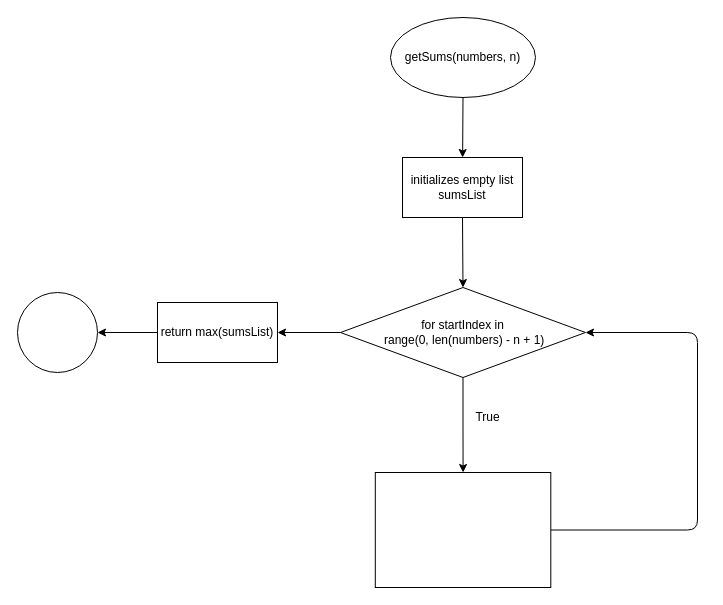
The diagram is 723 pixels wide and 605 high, and some of its shapes have lost their labels. Each missing label, with the box of its shape:
End: (16, 292, 98, 372)
sumsList.append(reduce(lambda x, y: x + y, numbers[startIndex: startIndex + n])): (374, 472, 551, 588)
